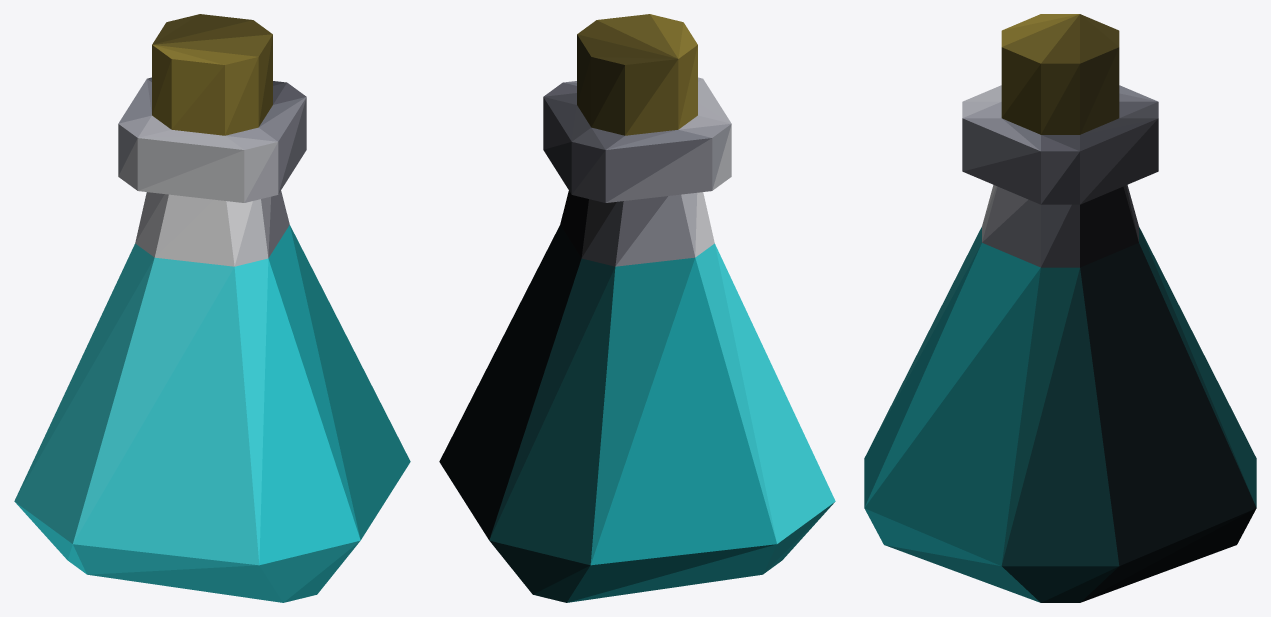
Rendered from attack-potion.obj.
3 views of the same model, side by side, from view 1: azimuth 30°, elevation 25°; view 2: azimuth 150°, elevation 25°; view 3: azimuth 270°, elevation 25° (orthographic).
Visible parts, largest first — view 1: Item Attack potion(4) 2026-09-24_21-31-07; view 2: Item Attack potion(4) 2026-09-24_21-31-07; view 3: Item Attack potion(4) 2026-09-24_21-31-07.
Part boxes in pixels (<box>): Item Attack potion(4) 2026-09-24_21-31-07: <box>14,14,410,602</box>; Item Attack potion(4) 2026-09-24_21-31-07: <box>439,14,835,602</box>; Item Attack potion(4) 2026-09-24_21-31-07: <box>864,14,1256,602</box>.
Size of the model in its own units: 20 by 28 by 20.
